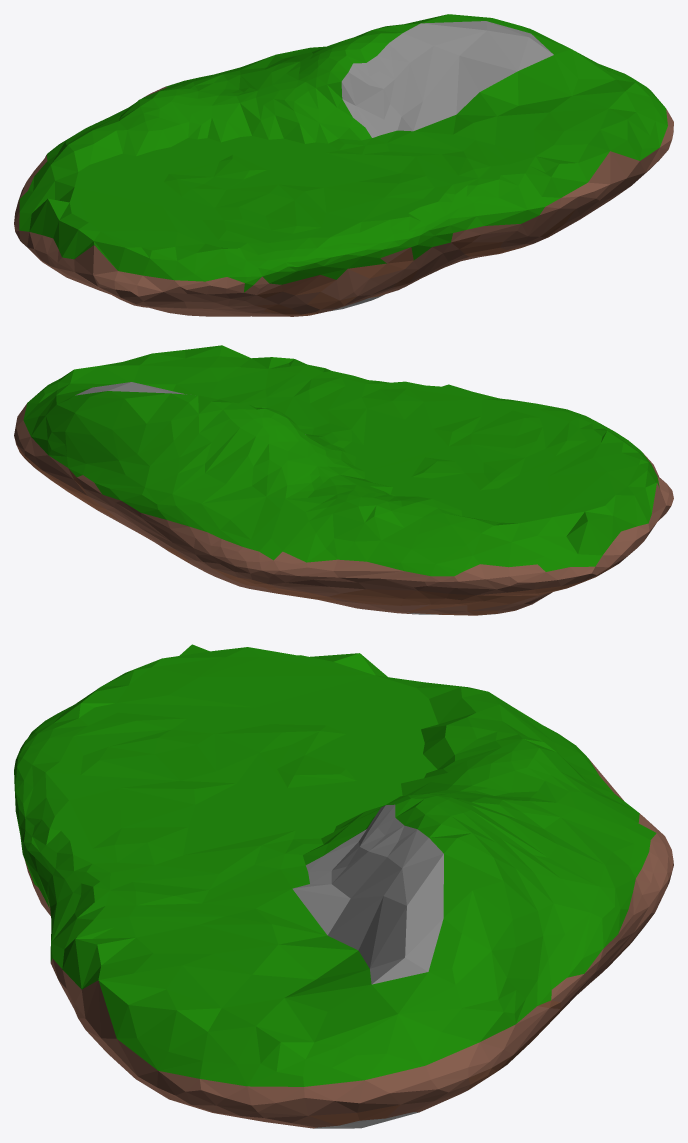
Rendered from Island_Large.fbx.
The picture shows the model from 3 angles, top to bottom: view 1: azimuth 30°, elevation 25°; view 2: azimuth 150°, elevation 25°; view 3: azimuth 270°, elevation 25°; orthographic projection. The views are drawn at different scales.
Visible parts, largest first — view 1: Island_01; view 2: Island_01; view 3: Island_01.
Boxes of the visible parts, <box> form: Island_01: <box>14,14,673,316</box>; Island_01: <box>14,345,673,615</box>; Island_01: <box>14,644,673,1128</box>.
Size of the model in its own units: 452 by 131 by 295.
